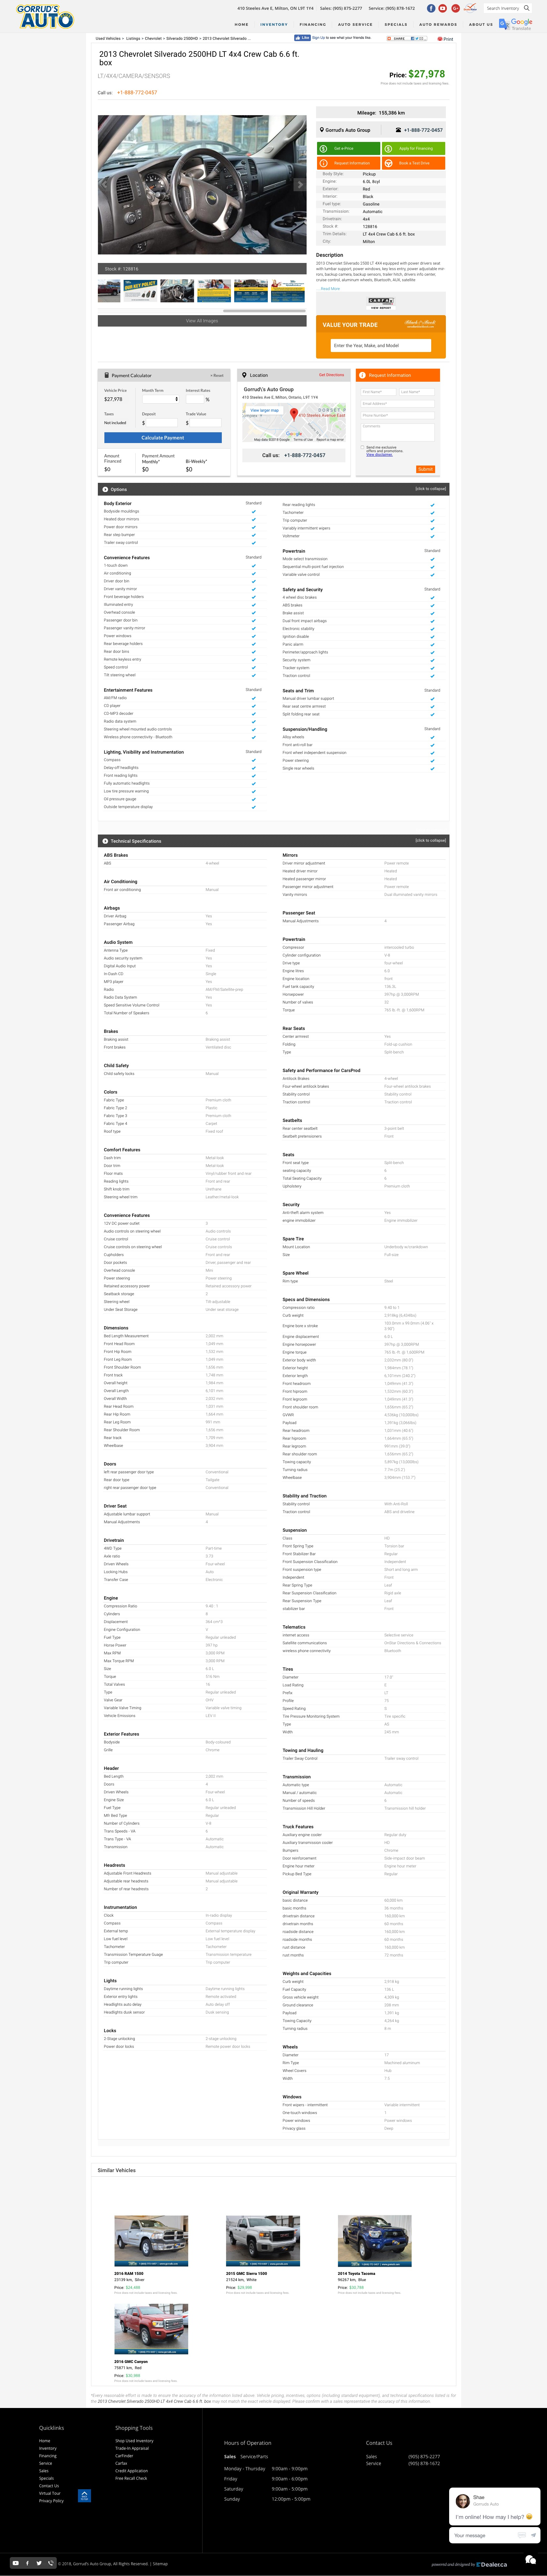car: (294, 177, 307, 192)
